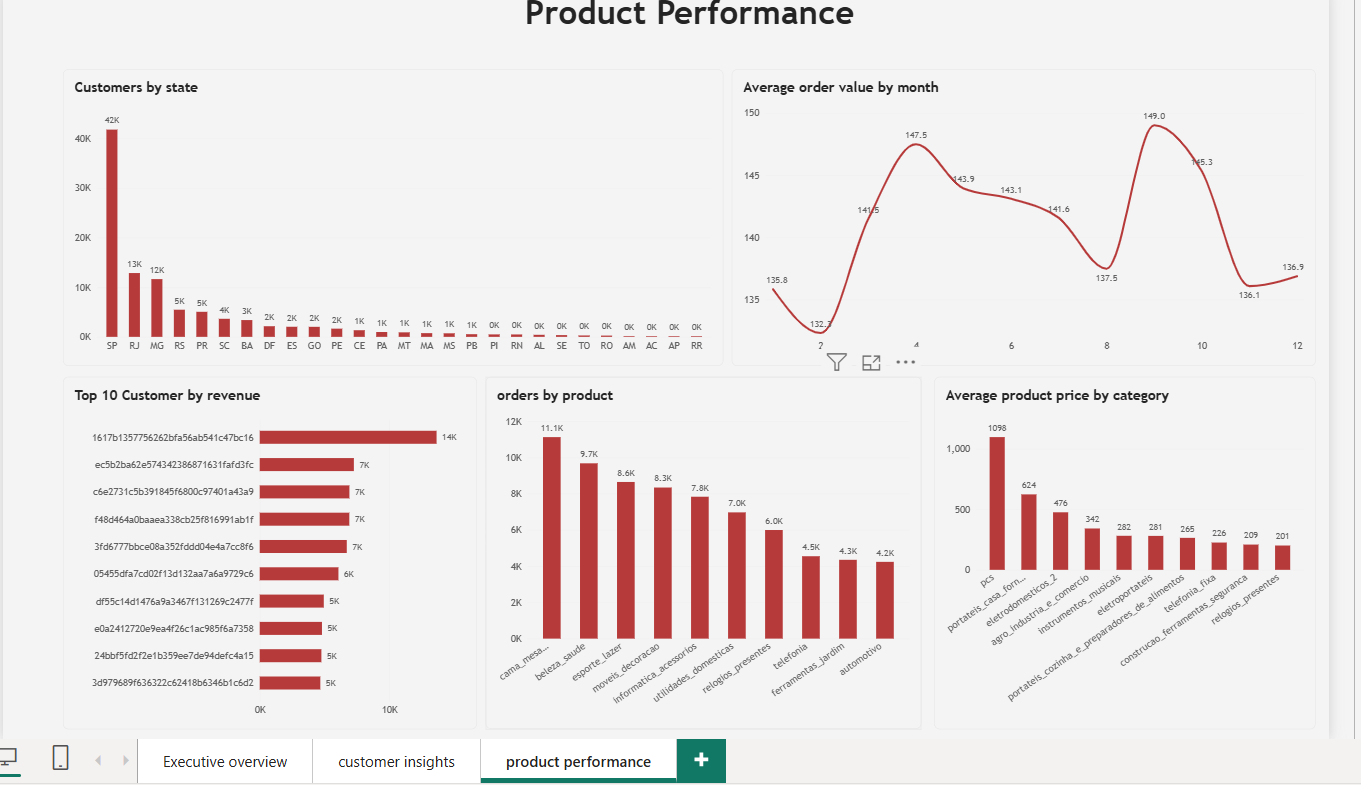

The dashboard page shown, as its layout file describes it:
{"tool":"powerbi","page":{"name":"product performance","canvas":[1920,1080],"ordinal":2},"visuals":[{"type":"textbox","box":[86.2,0,1814.1,93.5],"z":0},{"type":"clusteredBarChart","title":"Top 10 Customer by revenue","fields":{"Category":["olist_bi dim_customer.customer_id"],"Y":["olist_bi fact_sales.Total_revenue"]},"box":[86.9,555.6,599,510.3],"z":1},{"type":"lineChart","title":"Average order value by month","fields":{"Category":["olist_bi fact_sales.month"],"Y":["olist_bi fact_sales.Average_order_value"]},"box":[1054.7,110.1,845.6,429.2],"z":3},{"type":"clusteredColumnChart","title":"Customers by state","fields":{"Category":["olist_bi dim_customer.customer_state"],"Y":["CountNonNull(olist_bi dim_customer.customer_id)"]},"box":[86.2,110.1,955.6,429.2],"z":4},{"type":"columnChart","title":"orders by product","fields":{"Category":["olist_bi dim_product.product_category_name"],"Y":["olist_bi fact_sales.Total_orders"]},"box":[698.8,555.8,631,509.9],"z":5},{"type":"clusteredColumnChart","title":"Average product price by category","fields":{"Category":["olist_bi dim_product.product_category_name"],"Y":["Avg(olist_bi fact_sales.price)"]},"box":[1348.2,555.6,551.9,510.3],"z":6}]}

Visuals, with their boxes on the page's 1920x1080 design canvas (x1, y1, x2, y2). These are canvas units, not pixel positions in the 1361x785 screenshot, which may show the page scaled, cropped or inside an application window:
textbox: box=[86, 0, 1900, 94]
"Top 10 Customer by revenue" clusteredBarChart: box=[87, 556, 686, 1066]
"Average order value by month" lineChart: box=[1055, 110, 1900, 539]
"Customers by state" clusteredColumnChart: box=[86, 110, 1042, 539]
"orders by product" columnChart: box=[699, 556, 1330, 1066]
"Average product price by category" clusteredColumnChart: box=[1348, 556, 1900, 1066]
